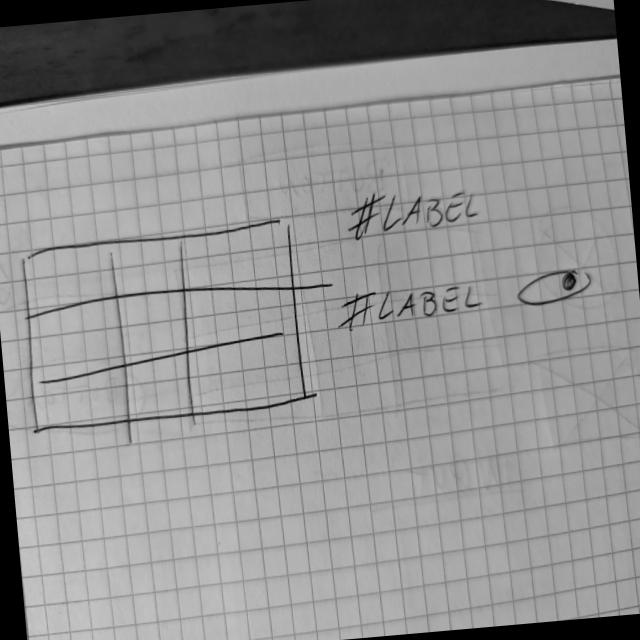label: (338, 275, 486, 336), (346, 182, 487, 246)
table: (15, 214, 314, 441)
toggle: (513, 263, 597, 312)
